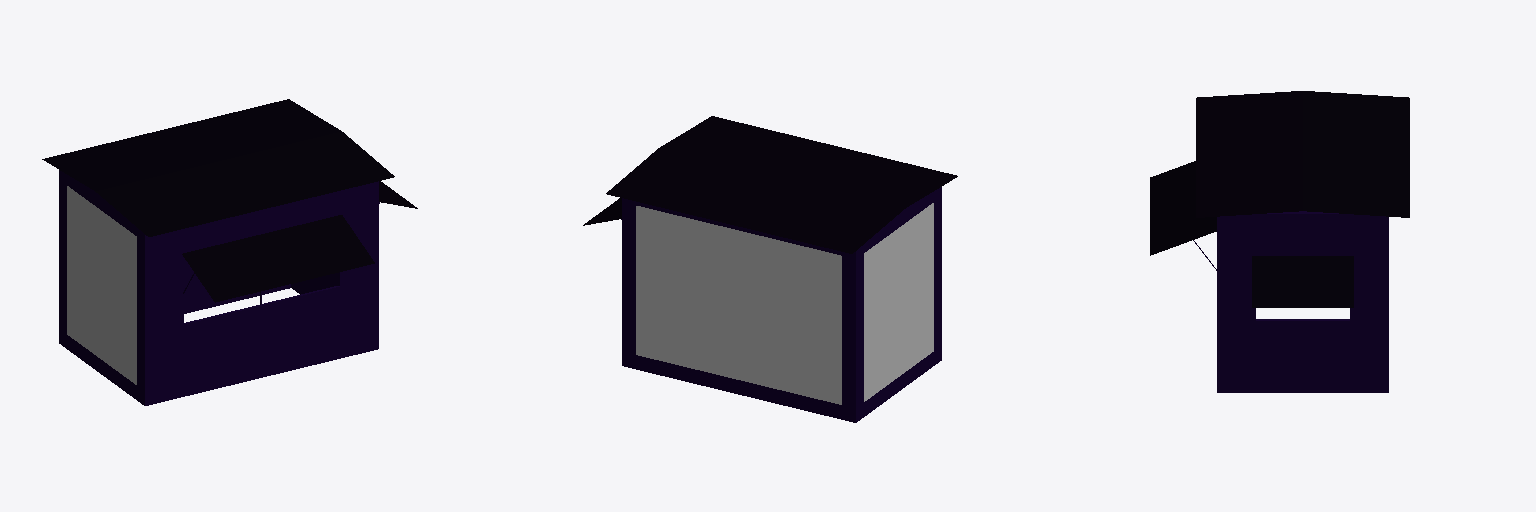
File: PuestoComida3.obj
3 views of the same model, side by side, from view 1: azimuth 30°, elevation 25°; view 2: azimuth 150°, elevation 25°; view 3: azimuth 270°, elevation 25° (orthographic).
Parts seen in each view (by area): view 1: Puesto_Comida.009; view 2: Puesto_Comida.009; view 3: Puesto_Comida.009.
Part boxes in pixels (x1,y1,x2,y2): Puesto_Comida.009: (42, 99, 417, 405); Puesto_Comida.009: (583, 116, 957, 422); Puesto_Comida.009: (1150, 91, 1409, 392).
Size of the model in its own units: 4.22 by 2.5 by 3.18.